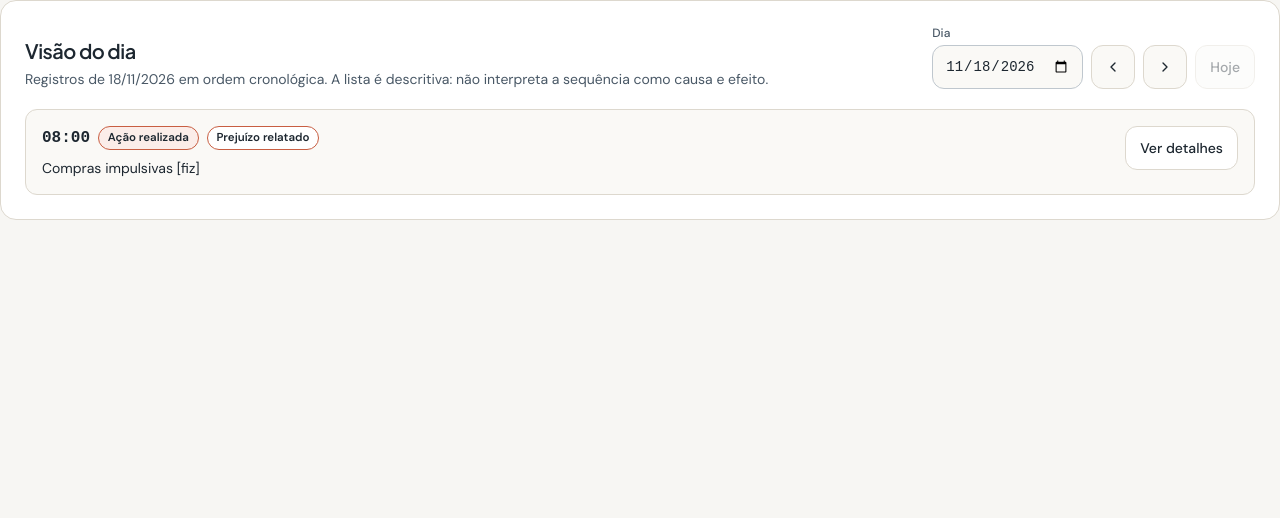
Test: DailyTimeline — visão diária consolidada › expande detalhes, edita e só exclui após confirmação
Later steps or results of the test are not shown.
Click the button with aria-label "Ver detalhes de 08:00": (1182, 148) [1125, 126, 1238, 170]
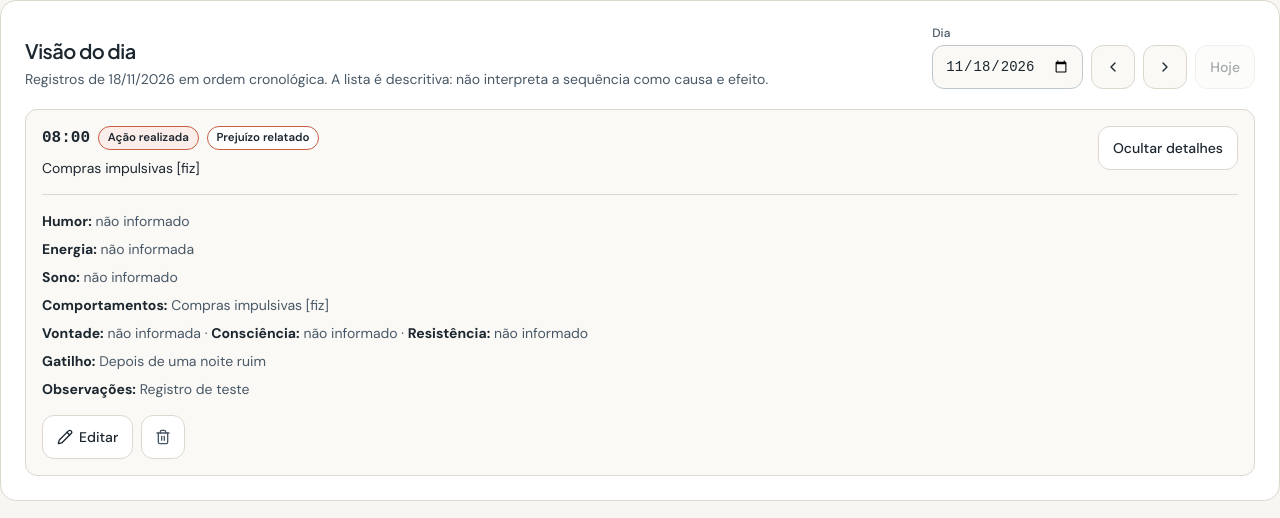
Expected: the text "Prejuízo relatado" is shown, [207, 126, 319, 150]
Expected: the text "Gatilho: Depois de uma noite ruim" is shown, [42, 352, 266, 370]
Expected: the text "Observações: Registro de teste" is shown, [42, 380, 249, 398]
